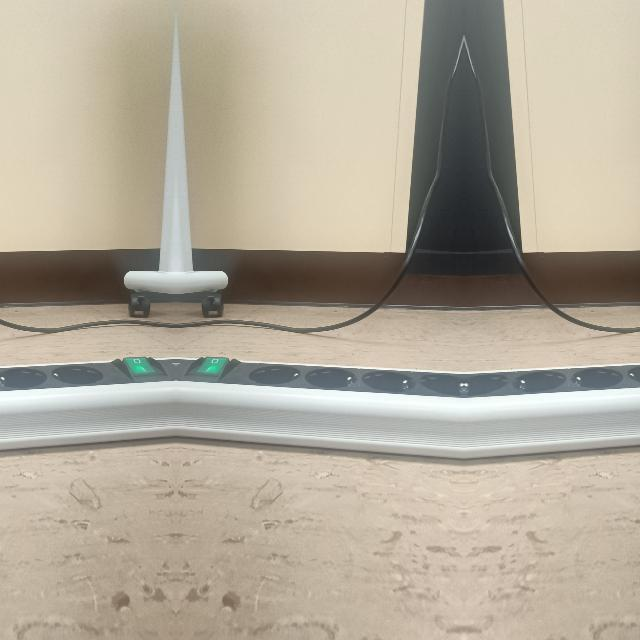obstacle: (176, 350, 464, 462), (463, 350, 640, 462), (0, 350, 174, 462), (176, 219, 232, 321), (118, 219, 174, 321)
